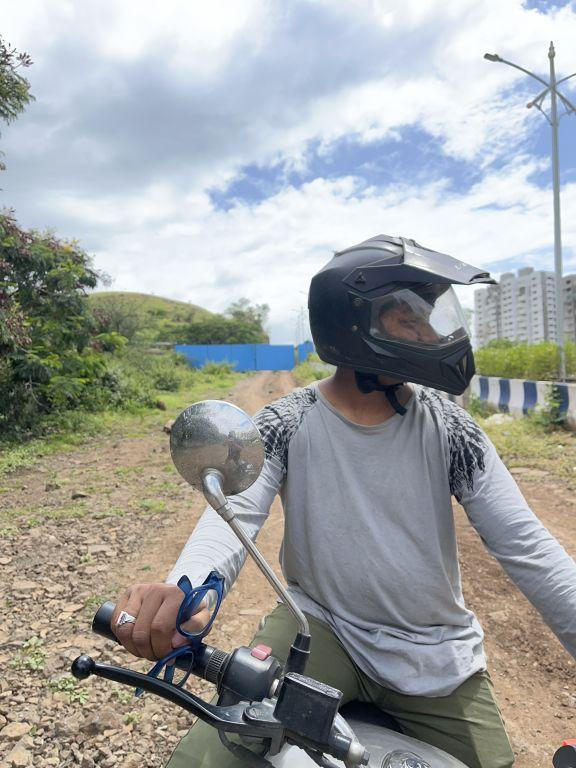helmet: (299, 225, 501, 410)
